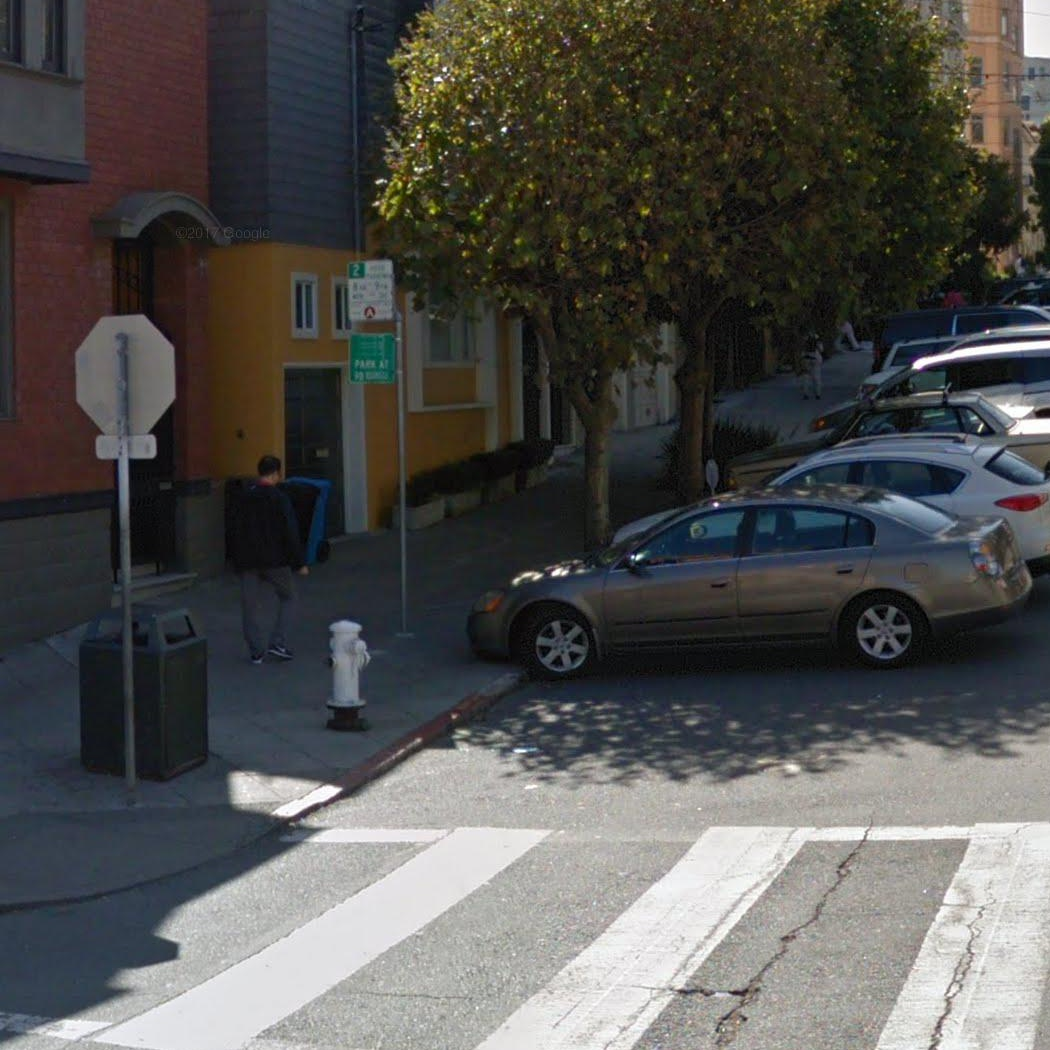2 Hour Parking: (347, 258, 397, 323)
